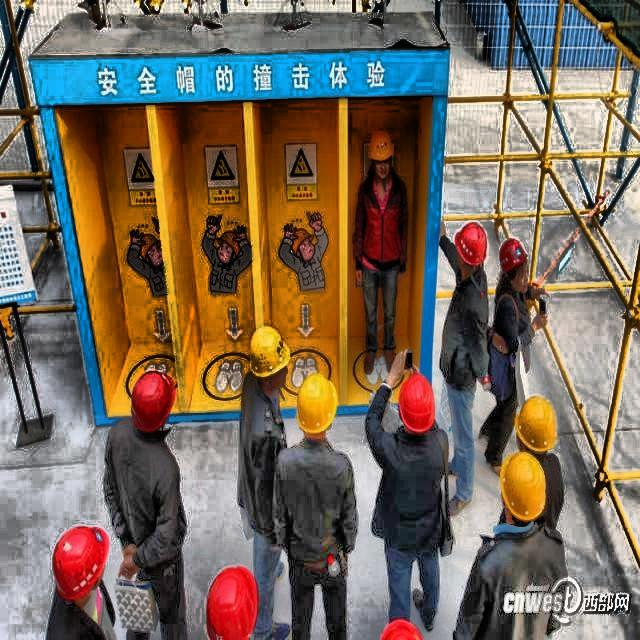person: (367, 374, 449, 628), (437, 234, 495, 432), (358, 122, 402, 370)
